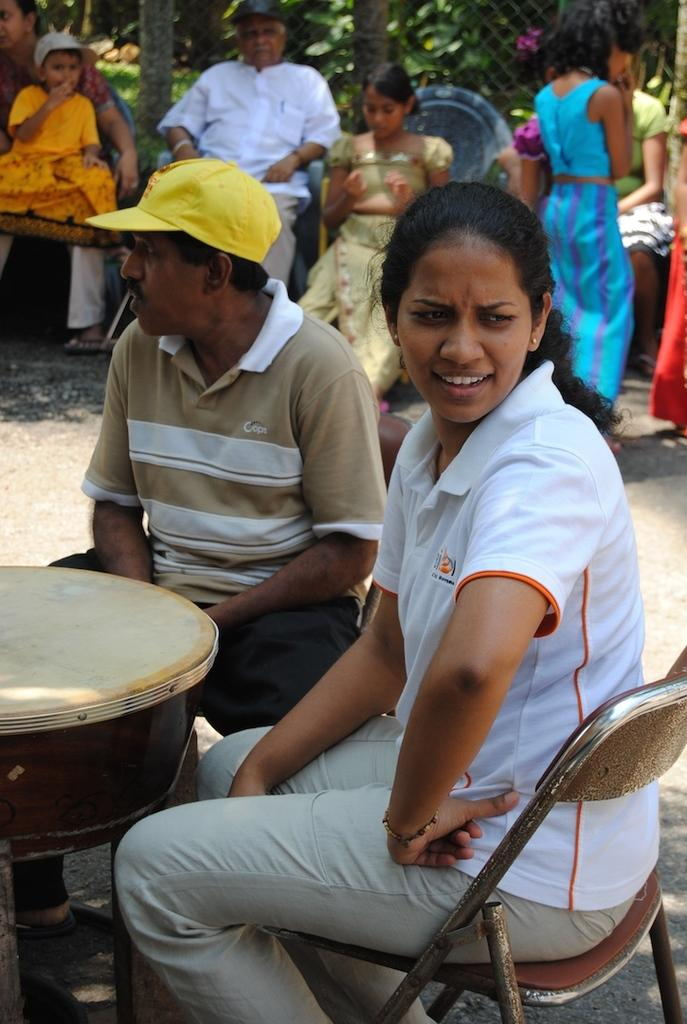Hat: (83, 154, 278, 263), (34, 35, 98, 69)
